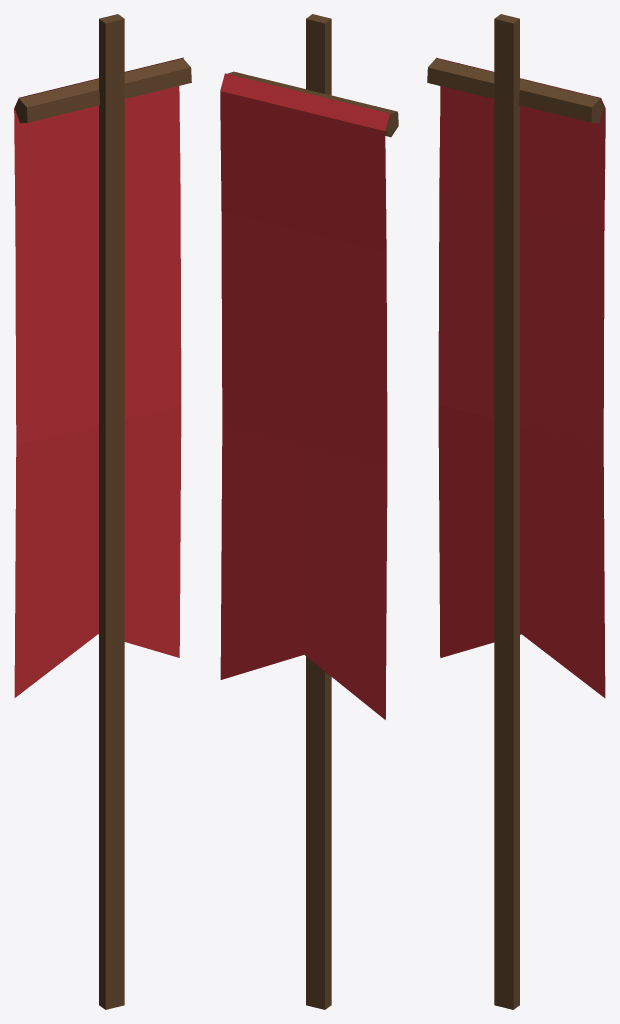
File: japan-japan-flag-big.glb
3 renders of one model, left to right at view 1: azimuth 30°, elevation 25°; view 2: azimuth 150°, elevation 25°; view 3: azimuth 330°, elevation 25°, orthographic.
Visible parts, largest first — view 1: japan-flag_big; view 2: japan-flag_big; view 3: japan-flag_big.
Part boxes in pixels (x1,y1,x2,y2): japan-flag_big: [14, 14, 191, 1009]; japan-flag_big: [220, 14, 398, 1009]; japan-flag_big: [427, 14, 605, 1009].
Bounding box in the file's own units: 0.8585 × 4.9 × 0.1705.
